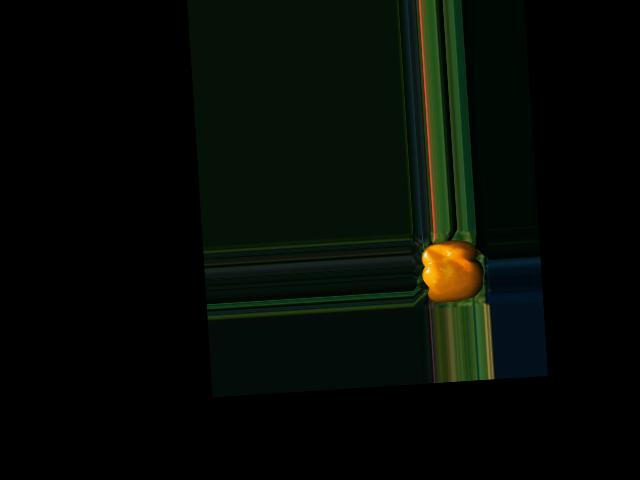bell_pepper: (414, 233, 486, 307)
